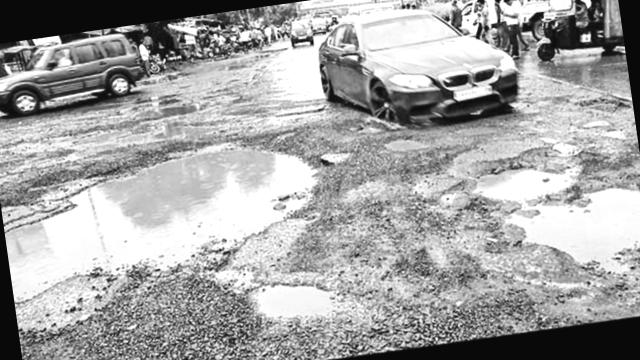Pothole: (0, 127, 331, 306), (454, 132, 640, 311), (0, 101, 237, 169), (194, 248, 358, 340), (580, 92, 634, 125), (368, 132, 434, 158), (447, 120, 504, 140)
